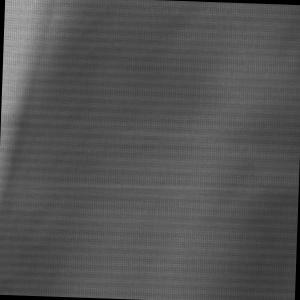Wrinkle: (1, 1, 78, 227)
